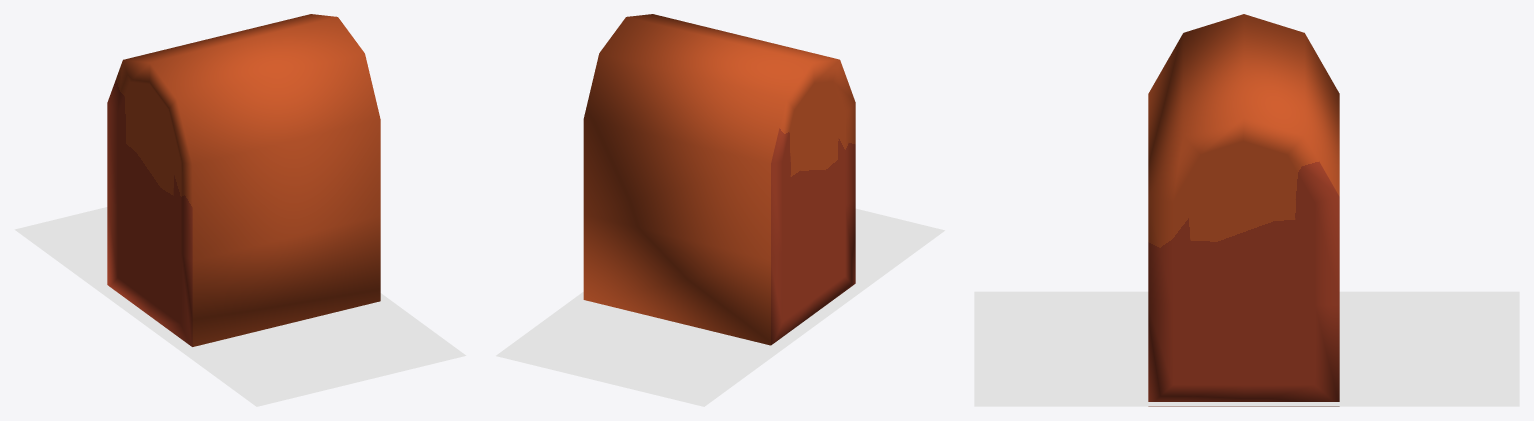
File: NormalContent.fbx
3 views of the same model, side by side, from view 1: azimuth 30°, elevation 25°; view 2: azimuth 150°, elevation 25°; view 3: azimuth 270°, elevation 25° (orthographic). The views are drawn at different scales.
Parts seen in each view (by area): view 1: BasicObstacle, Shadow; view 2: BasicObstacle, Shadow; view 3: BasicObstacle, Shadow.
Part boxes in pixels (box(x1,y1,x2,y2)): BasicObstacle: box(107, 14, 380, 346); Shadow: box(14, 207, 466, 406); BasicObstacle: box(583, 14, 855, 345); Shadow: box(496, 208, 944, 406); BasicObstacle: box(1148, 14, 1339, 406); Shadow: box(974, 291, 1519, 406).
Size of the model in its own units: 0.6805 by 0.7985 by 1.36.
